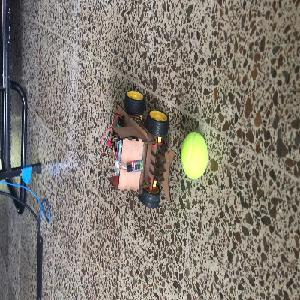Ball: (180, 131, 208, 180)
Robot: (106, 91, 176, 208)
